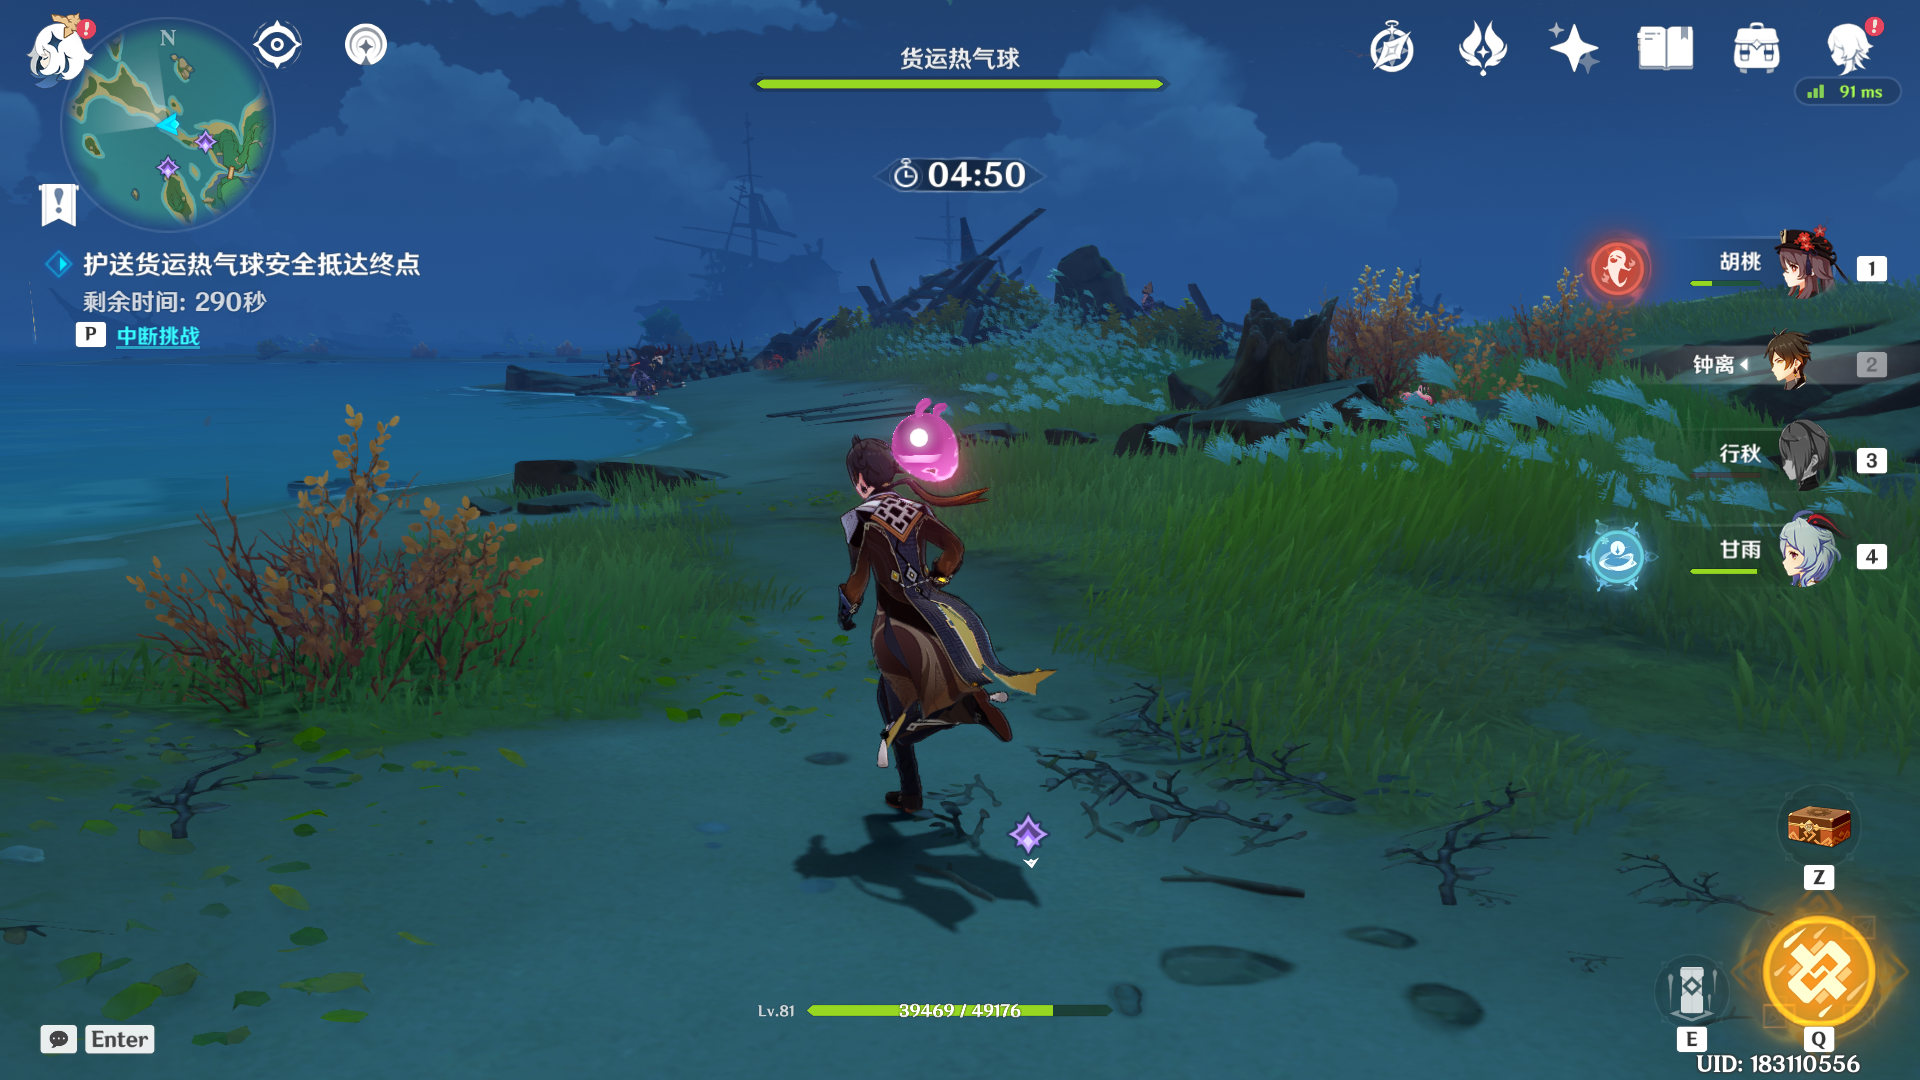character: (761, 373, 1059, 903)
